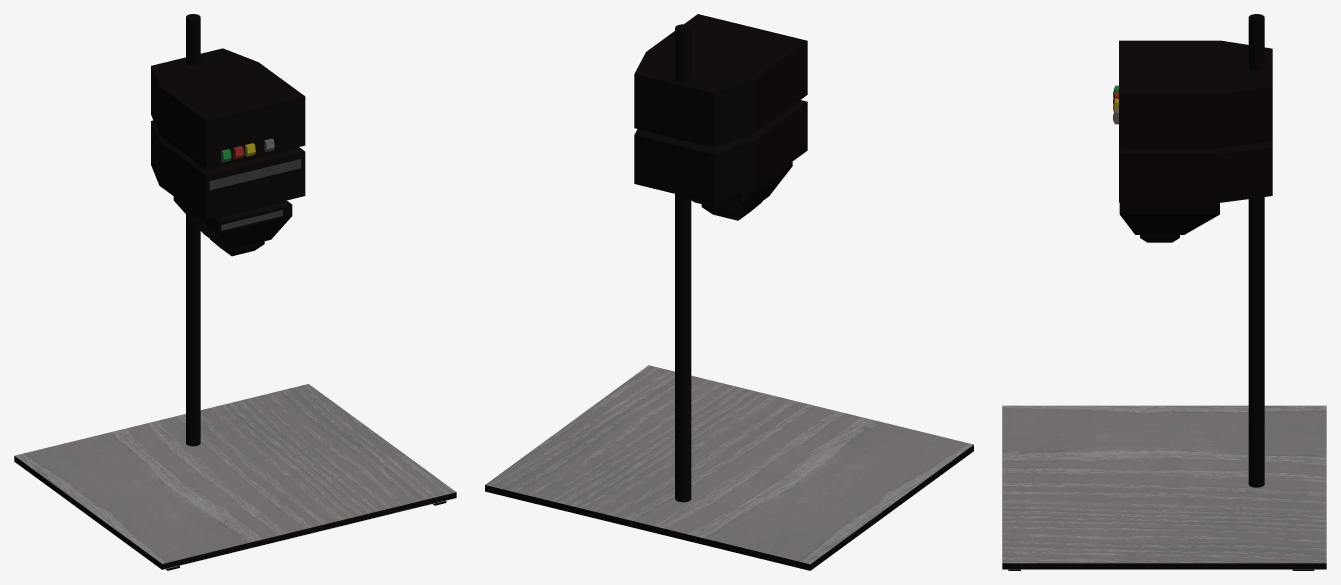
File: photoEnlarger.fbx
3 views of the same model, side by side, from view 1: azimuth 30°, elevation 25°; view 2: azimuth 150°, elevation 25°; view 3: azimuth 270°, elevation 25° (orthographic). The views are drawn at different scales.
Visible parts, largest first — view 1: Cube.001; view 2: Cube.001; view 3: Cube.001.
Part boxes in pixels (x1=…): Cube.001: x1=14, y1=14, x2=456, y2=570; Cube.001: x1=485, y1=14, x2=973, y2=570; Cube.001: x1=1002, y1=14, x2=1326, y2=570.
Bounding box in the file's own units: 4.61 × 6.54 × 4.02.
Materials: 1 (1 with a texture image).
